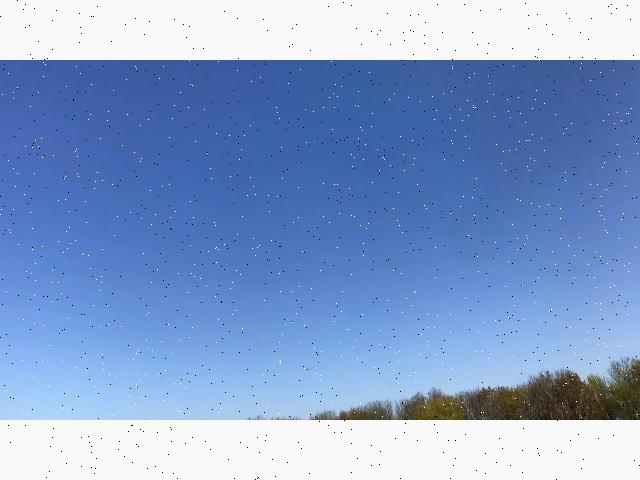Anti-Drone: (276, 356, 286, 368)
